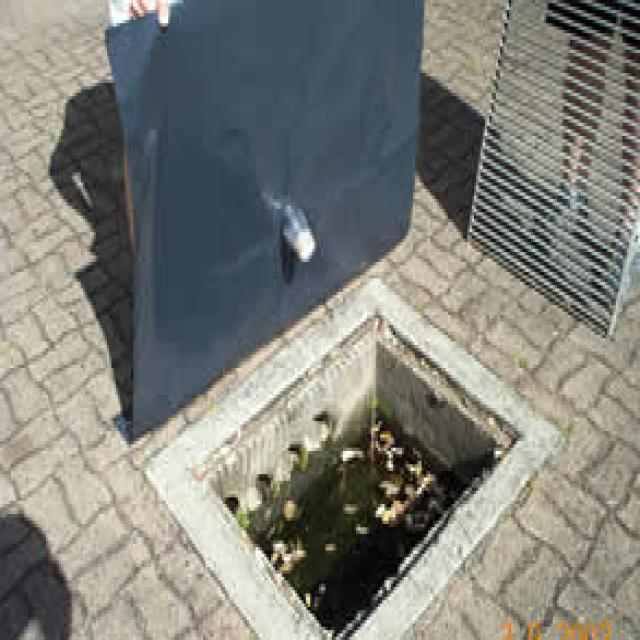Breeding Place: (141, 277, 560, 640)
